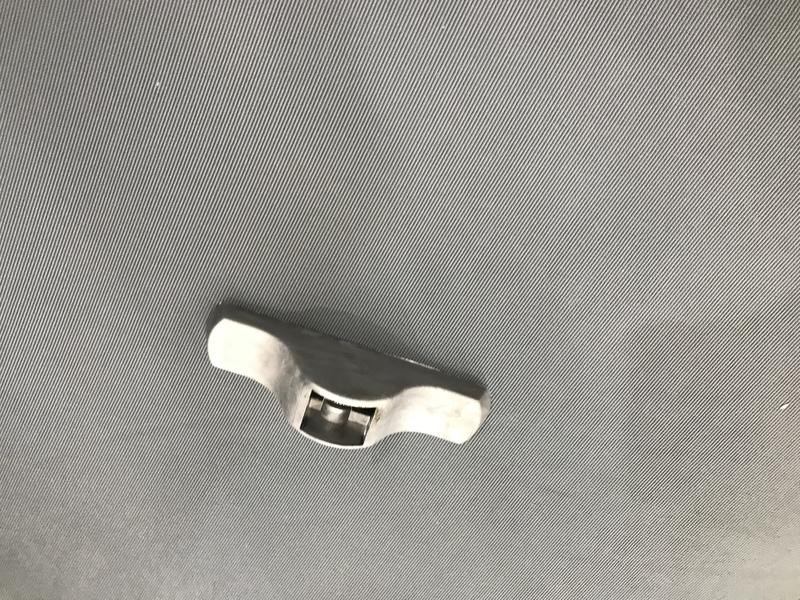zapchast: (187, 282, 514, 479)
